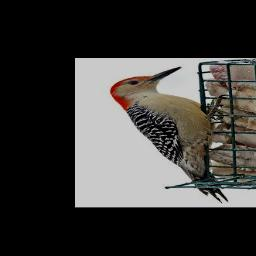Woodpecker: (110, 64, 230, 204)
